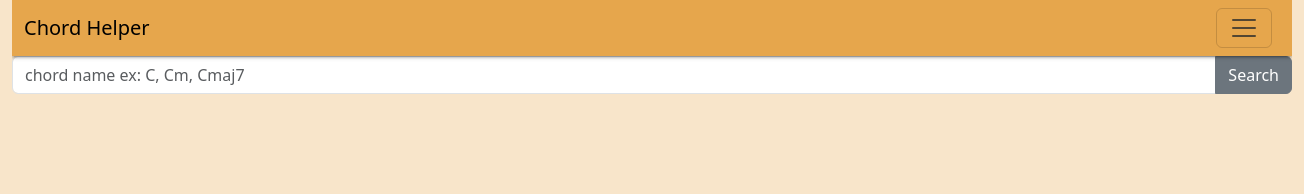
Test: ChordPage component › renders the autofill with the chords from database
Step 1. Type "c" into the field named "chord-input" → [614, 75], box left=12, top=56, right=1216, bottom=94
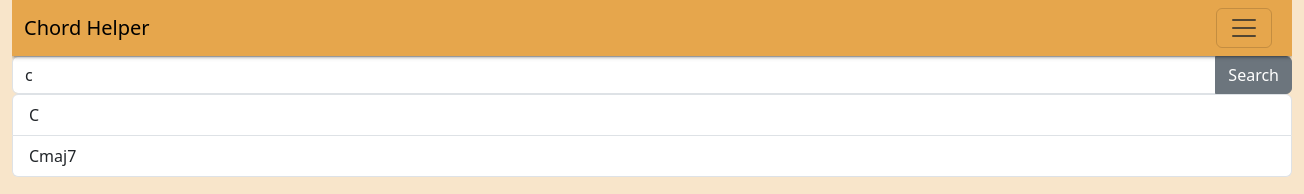
Expected: the link "C" is shown, left=12, top=94, right=1292, bottom=136
Expected: the link "Cmaj7" is shown, left=12, top=136, right=1292, bottom=177
